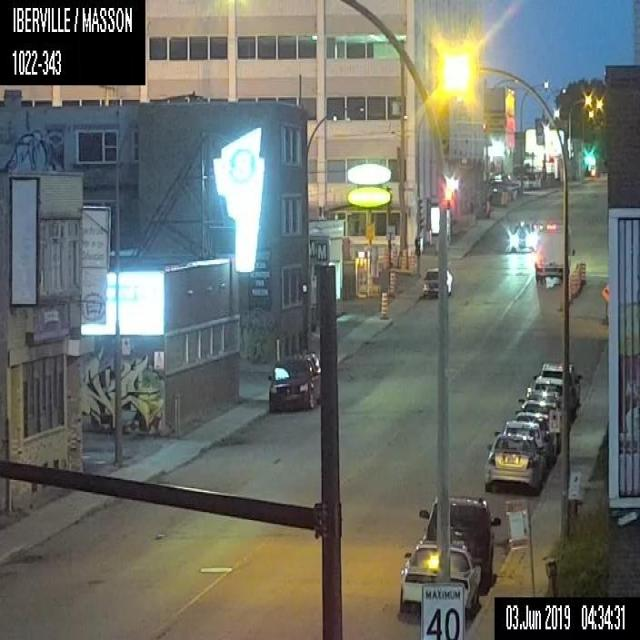construction: (598, 281, 608, 323), (379, 288, 388, 318), (387, 269, 396, 298), (569, 271, 578, 298), (380, 248, 390, 270), (390, 245, 399, 267), (578, 260, 586, 282), (399, 247, 406, 270), (408, 252, 414, 273)
vehicle: (418, 492, 501, 595), (398, 542, 480, 624), (484, 432, 544, 494), (265, 351, 321, 412), (540, 358, 580, 412), (532, 224, 564, 282), (419, 266, 453, 298), (506, 219, 535, 256), (502, 419, 546, 440), (520, 399, 560, 422), (533, 376, 563, 392), (564, 224, 566, 225)
